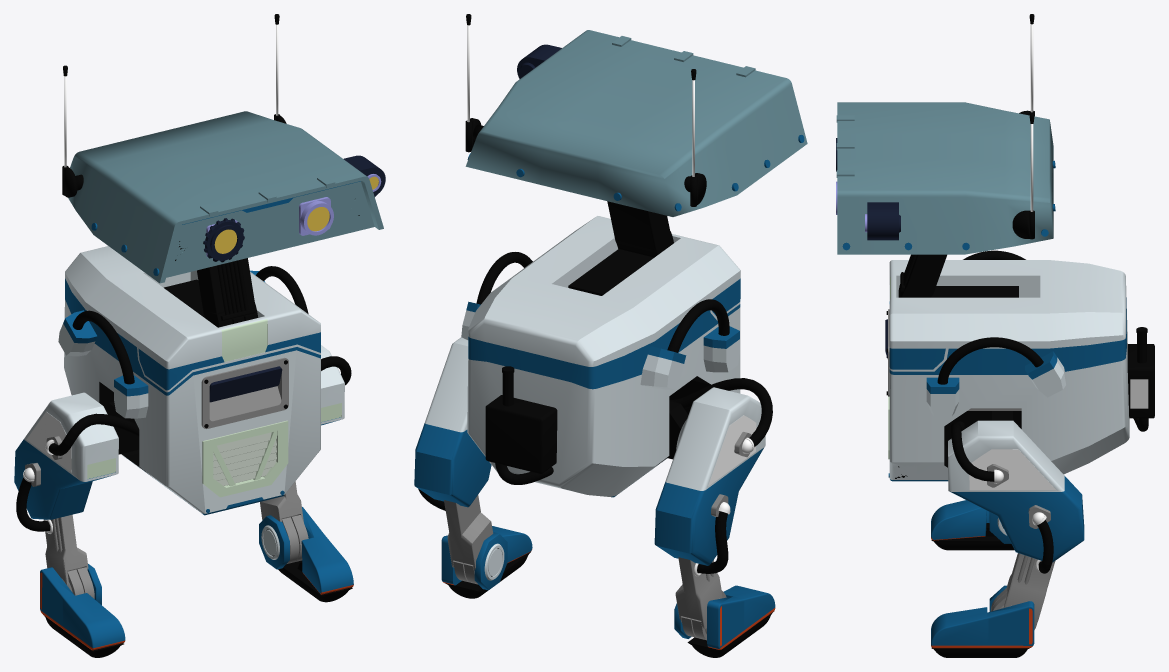
Rendered from robot.fbx.
3 renders of one model, left to right at view 1: azimuth 30°, elevation 25°; view 2: azimuth 150°, elevation 25°; view 3: azimuth 270°, elevation 25°, orthographic. The views are drawn at different scales.
Parts seen in each view (by area): view 1: Body, Head, Thigh.001, Foot.001, BodyFrontFrame, Neck, Foot, BodyFrontVent, BodyFrontVent3, Shin.001, Tube, BodyFrontFrame1 (+18 smaller); view 2: Body, Head, Thigh.001, Thigh, BackRadio, Foot.001, Neck, Shin, Tube, Shin.001, NeckBase, TubeHold (+12 smaller); view 3: Body, Head, Thigh, Foot, BackRadio, Foot.001, Shin, Tube, Neck, Lantern, TubeHold, TubeHold.001 (+6 smaller).
Boxes of the visible parts, left/top/right/bottom form: Body: left=64, top=246, right=320, bottom=515; Head: left=68, top=111, right=383, bottom=283; Thigh.001: left=14, top=392, right=118, bottom=519; Foot.001: left=40, top=567, right=125, bottom=650; BodyFrontFrame: left=201, top=357, right=288, bottom=428; Neck: left=197, top=258, right=258, bottom=327; Foot: left=301, top=507, right=353, bottom=594; BodyFrontVent: left=202, top=420, right=288, bottom=497; BodyFrontVent3: left=213, top=432, right=276, bottom=485; Shin.001: left=43, top=514, right=88, bottom=585; Tube: left=72, top=266, right=308, bottom=384; BodyFrontFrame1: left=209, top=366, right=282, bottom=402; Body: left=467, top=216, right=740, bottom=497; Head: left=465, top=30, right=807, bottom=216; Thigh.001: left=654, top=387, right=765, bottom=565; Thigh: left=414, top=337, right=491, bottom=507; BackRadio: left=485, top=366, right=557, bottom=473; Foot.001: left=707, top=585, right=775, bottom=649; Neck: left=607, top=201, right=673, bottom=257; Shin: left=444, top=495, right=493, bottom=571; Tube: left=476, top=252, right=729, bottom=352; Shin.001: left=675, top=557, right=722, bottom=628; NeckBase: left=568, top=249, right=653, bottom=295; TubeHold: left=461, top=301, right=686, bottom=389; Body: left=889, top=260, right=1129, bottom=481; Head: left=837, top=102, right=1053, bottom=254; Thigh: left=948, top=420, right=1084, bottom=562; Foot: left=931, top=601, right=1034, bottom=648; BackRadio: left=1127, top=327, right=1154, bottom=418; Foot.001: left=931, top=500, right=989, bottom=540; Shin: left=1003, top=553, right=1055, bottom=624; Tube: left=937, top=250, right=1043, bottom=384; Neck: left=898, top=254, right=946, bottom=297; Lantern: left=867, top=202, right=900, bottom=240; TubeHold: left=1025, top=351, right=1066, bottom=397; TubeHold.001: left=926, top=377, right=959, bottom=416.
Bounding box in the file's own units: 3.77 × 6.87 × 3.69.
